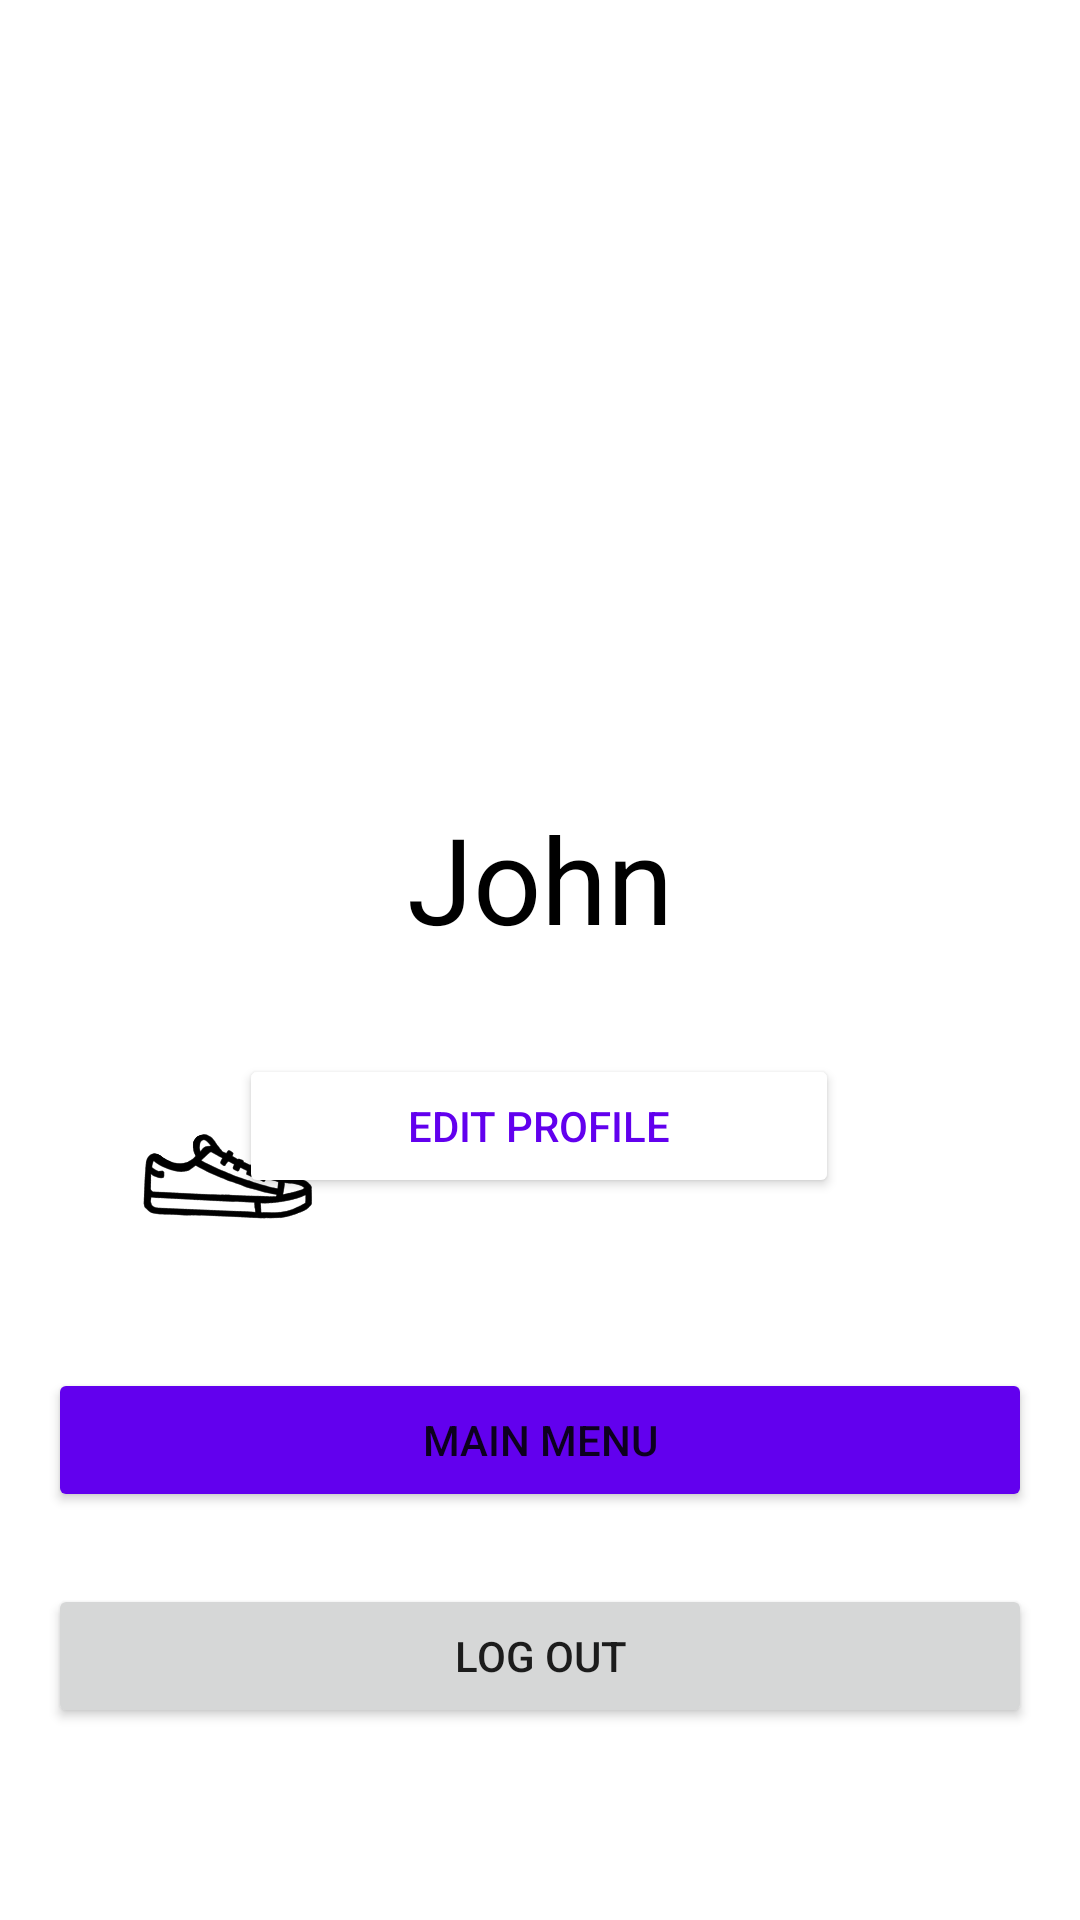

Named icons in this screenshot (1080px×1920px) and their centers, [x,y]:
shoe: [232,1150]
